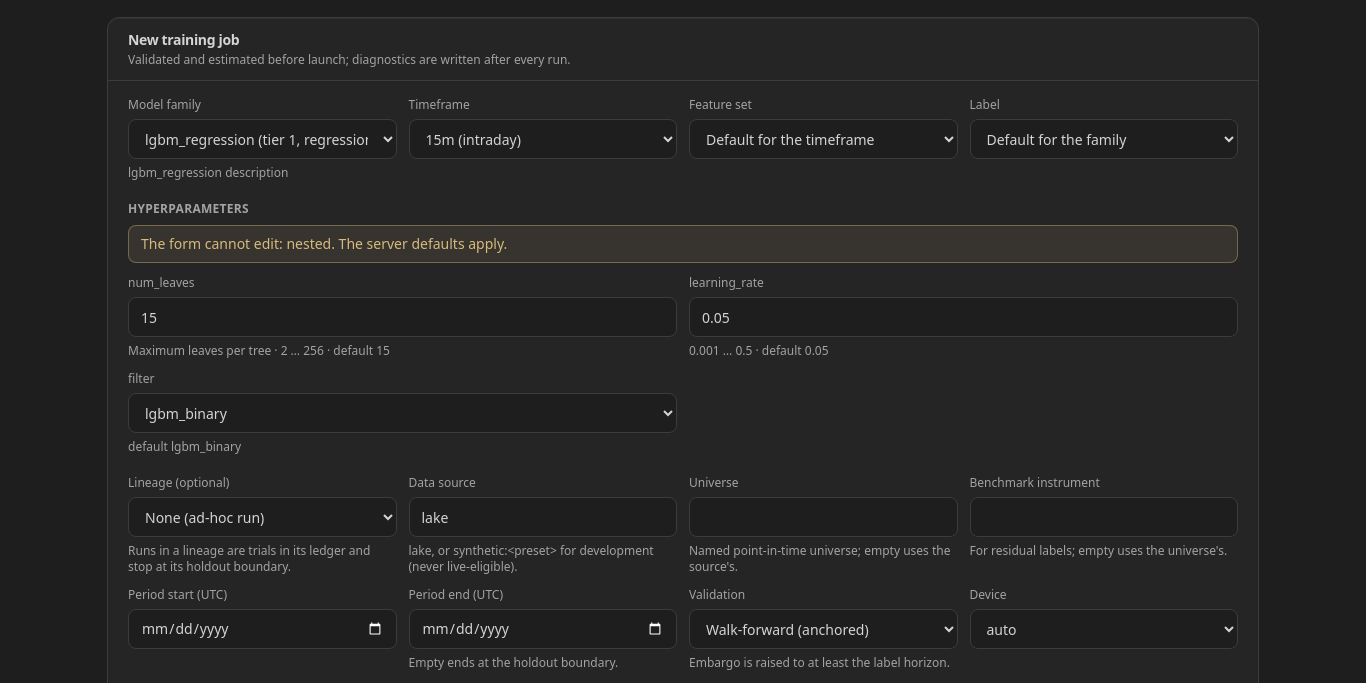
Test: Training page (UI-023) › UI-023: a field outside the schema range shows its message and blocks the estimate
The width and height of the screenshot is (1366, 683).
Type "1000" into the field labelled "num_leaves". click: (402, 317)
box: [128,297,677,337]
(page scrolled)
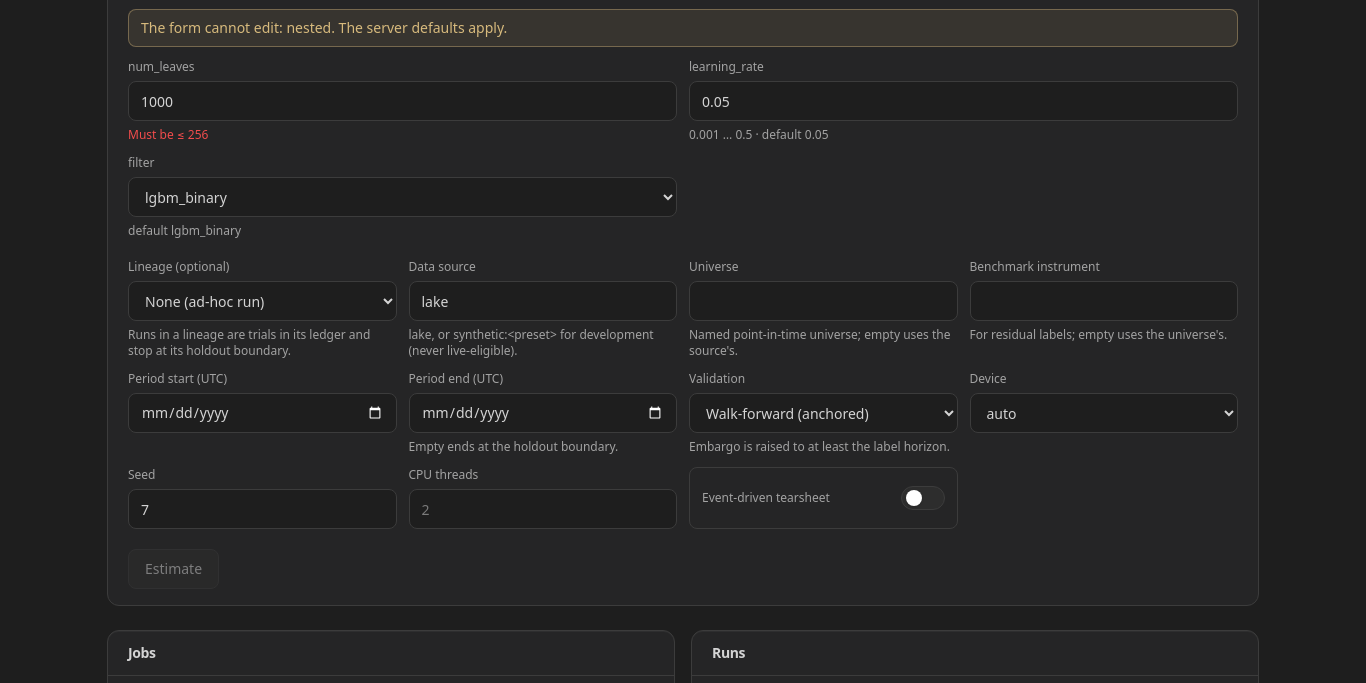
expect the text "Must be ≤ 256" is shown: met, box [128,126,208,143]
expect the button "Estimate" is disabled: met, box [128,549,219,589]
